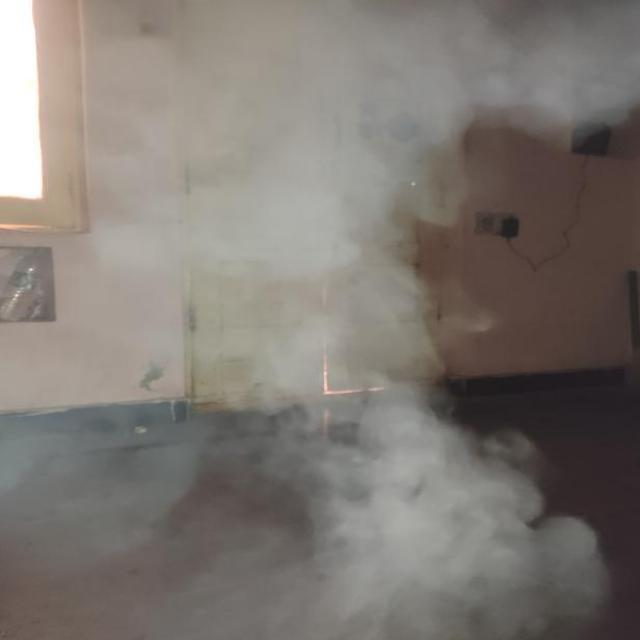fire: (70, 4, 620, 640)
